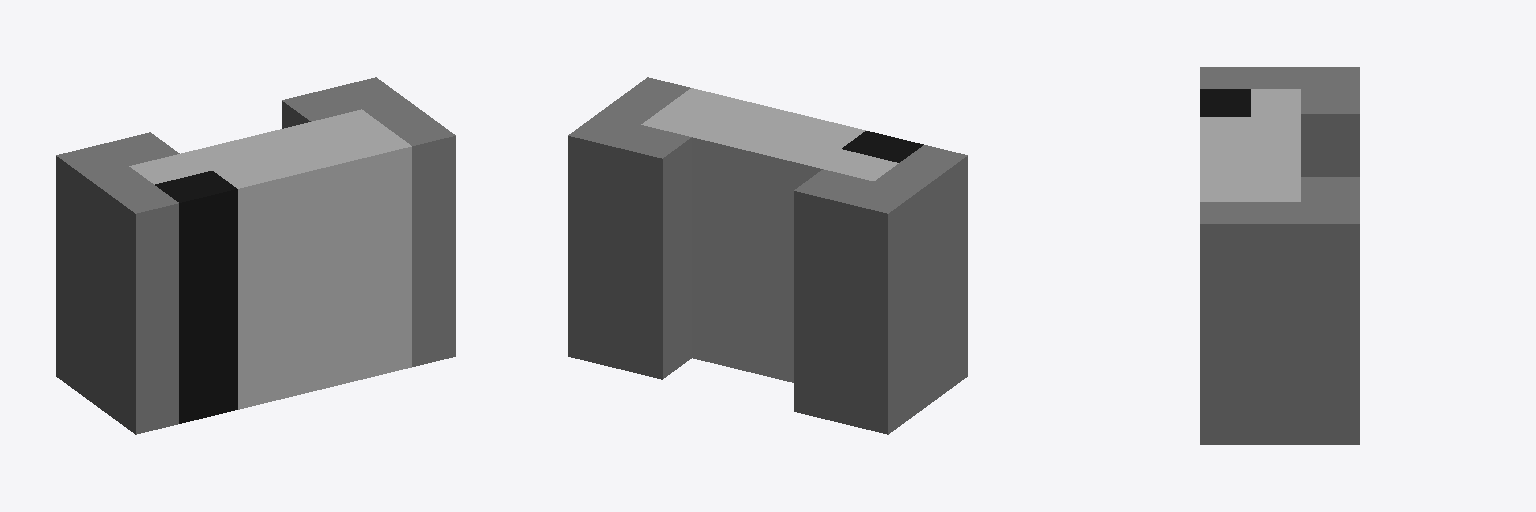
3 views of the same model, side by side, from view 1: azimuth 30°, elevation 25°; view 2: azimuth 150°, elevation 25°; view 3: azimuth 270°, elevation 25° (orthographic).
Visible parts, largest first — view 1: User Library-0805_D_Fusion, User Library-0805_D_Cut, User Library-0805_D_Cut001, User Library-0805_D_Box[number redacted]; view 2: User Library-0805_D_Cut, User Library-0805_D_Fusion, User Library-0805_D_Cut001, User Library-0805_D_Box[number redacted]; view 3: User Library-0805_D_Cut001, User Library-0805_D_Fusion, User Library-0805_D_Cut, User Library-0805_D_Box[number redacted].
Boxes of the visible parts, box(x1,y1,x2,y2) form: User Library-0805_D_Fusion: box(129, 109, 411, 409); User Library-0805_D_Cut: box(56, 132, 179, 434); User Library-0805_D_Cut001: box(282, 77, 455, 366); User Library-0805_D_Box[number redacted]: box(155, 171, 237, 423); User Library-0805_D_Cut: box(794, 145, 967, 434); User Library-0805_D_Fusion: box(641, 88, 898, 382); User Library-0805_D_Cut001: box(568, 77, 691, 379); User Library-0805_D_Box[number redacted]: box(842, 131, 923, 162); User Library-0805_D_Cut001: box(1200, 177, 1359, 444); User Library-0805_D_Fusion: box(1200, 89, 1300, 201); User Library-0805_D_Cut: box(1200, 67, 1359, 176); User Library-0805_D_Box[number redacted]: box(1200, 89, 1250, 116).
Size of the model in its own units: 2.2 by 1.45 by 0.95.